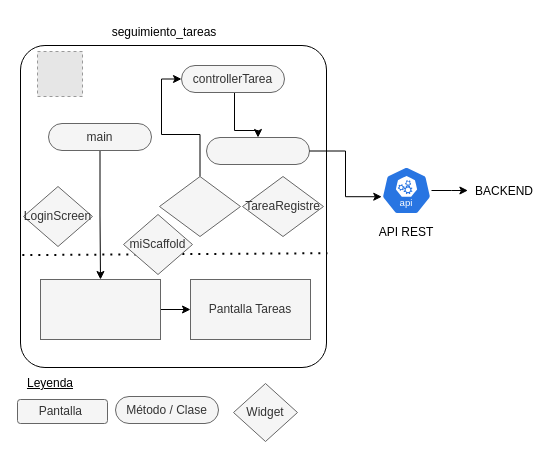
Some shapes in this 552 by 459 pixel diagram are drawn without their labels. Grey dashed boxes stand in for pictures. The shapes that lost their labels are listed below. From the top down, each one's box as (x1, y1, x2, y2) in pixels, then its label:
(206, 136, 310, 164): tareaService
(158, 176, 240, 236): TareaScreen
(40, 278, 160, 340): Pantalla Login
